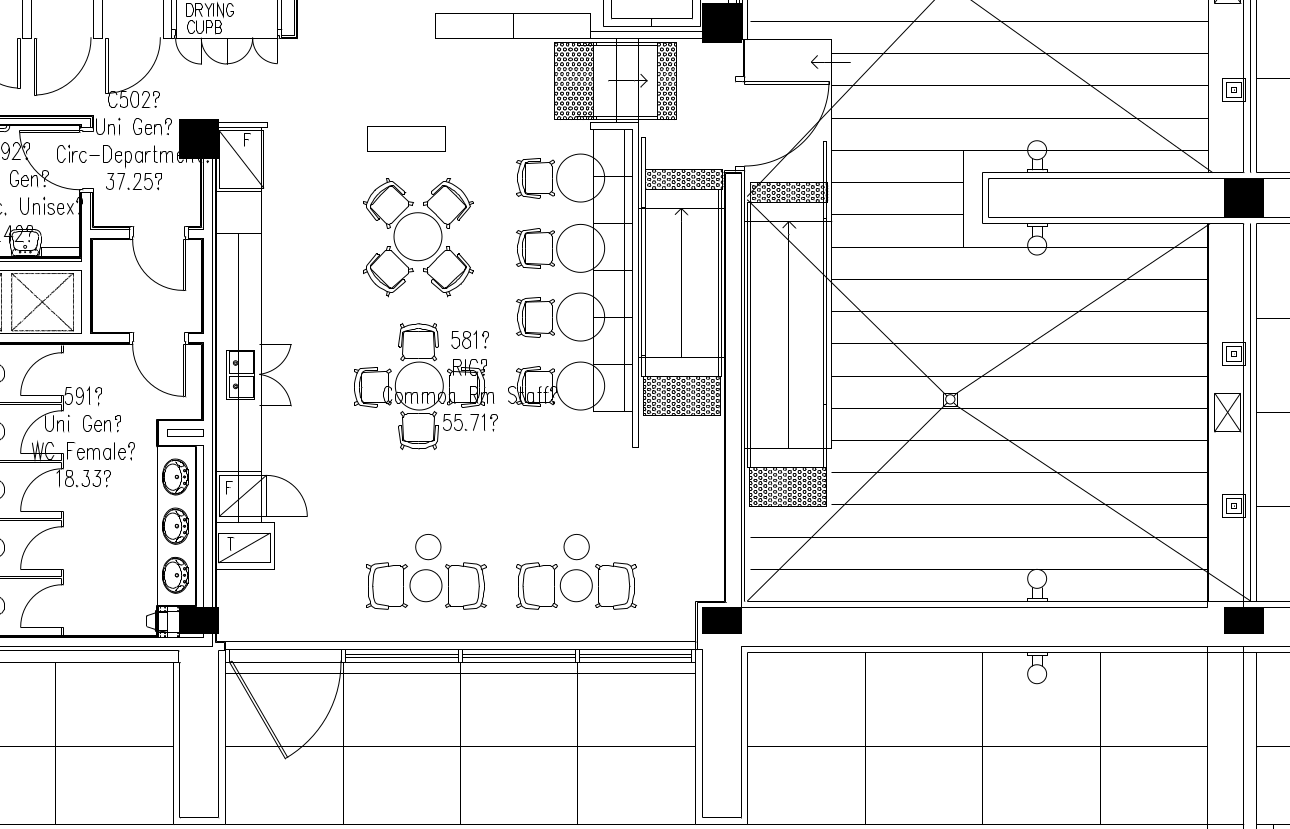door: (227, 662, 343, 769), (743, 73, 830, 168), (125, 240, 189, 300), (126, 343, 190, 403), (261, 336, 305, 411), (267, 469, 318, 521), (16, 349, 65, 399), (13, 466, 62, 516), (14, 524, 63, 574), (12, 582, 61, 632)
